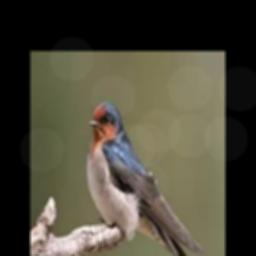Swallow: (85, 101, 206, 256)
